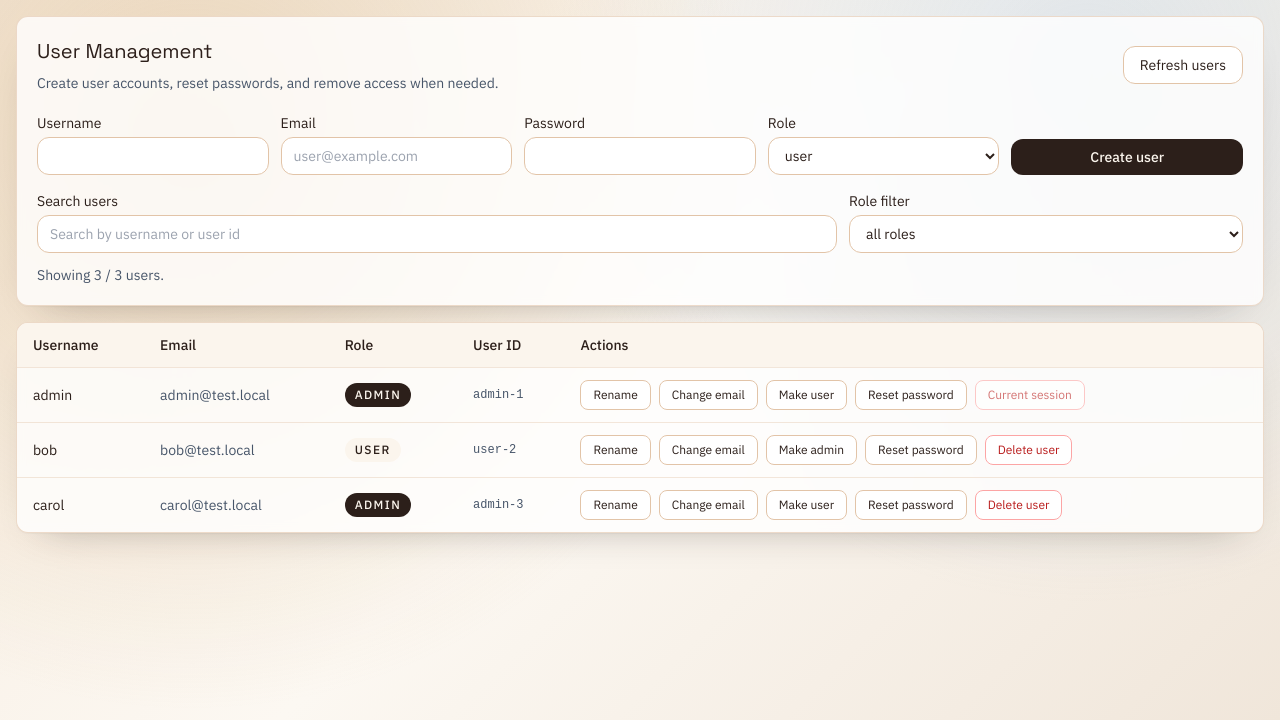
Test: AdminUsersView › creates a new user via the form
The width and height of the screenshot is (1280, 720).
In the field labelled "Username": (153, 156) [37, 137, 269, 175], type "newuser"
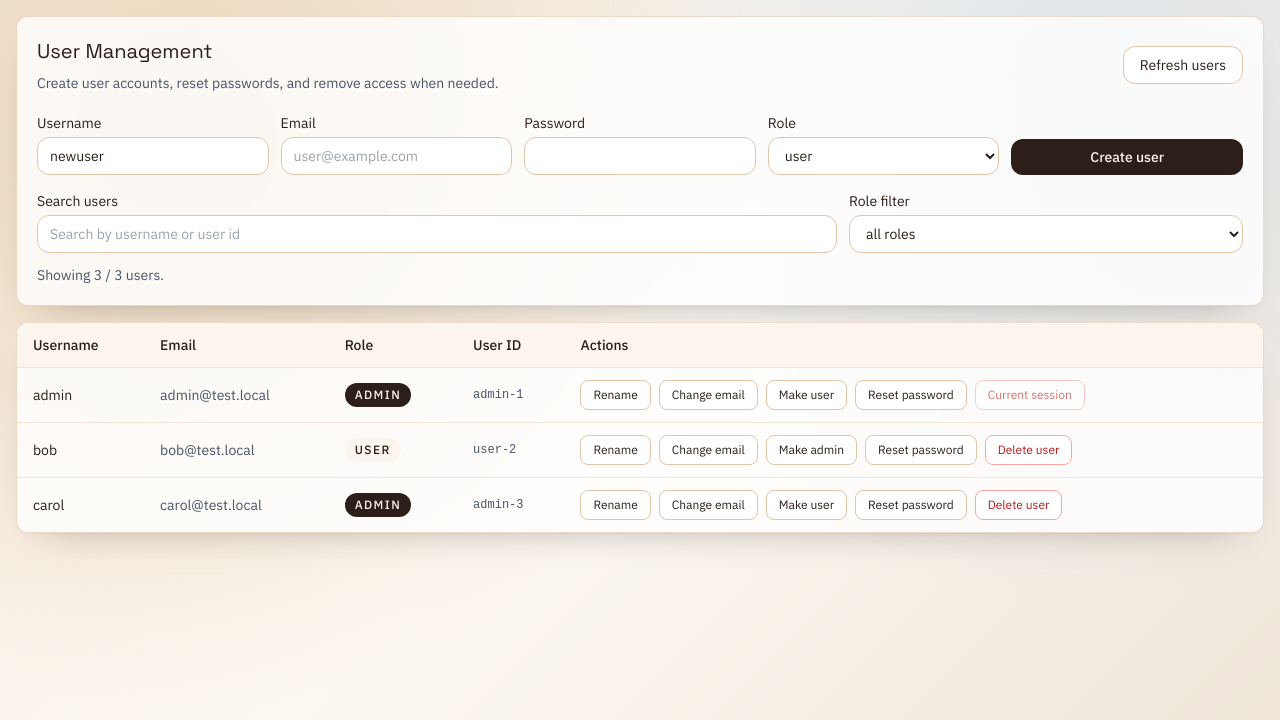
In the field labelled "Email": (396, 156) [281, 137, 512, 175], type "new@test.local"
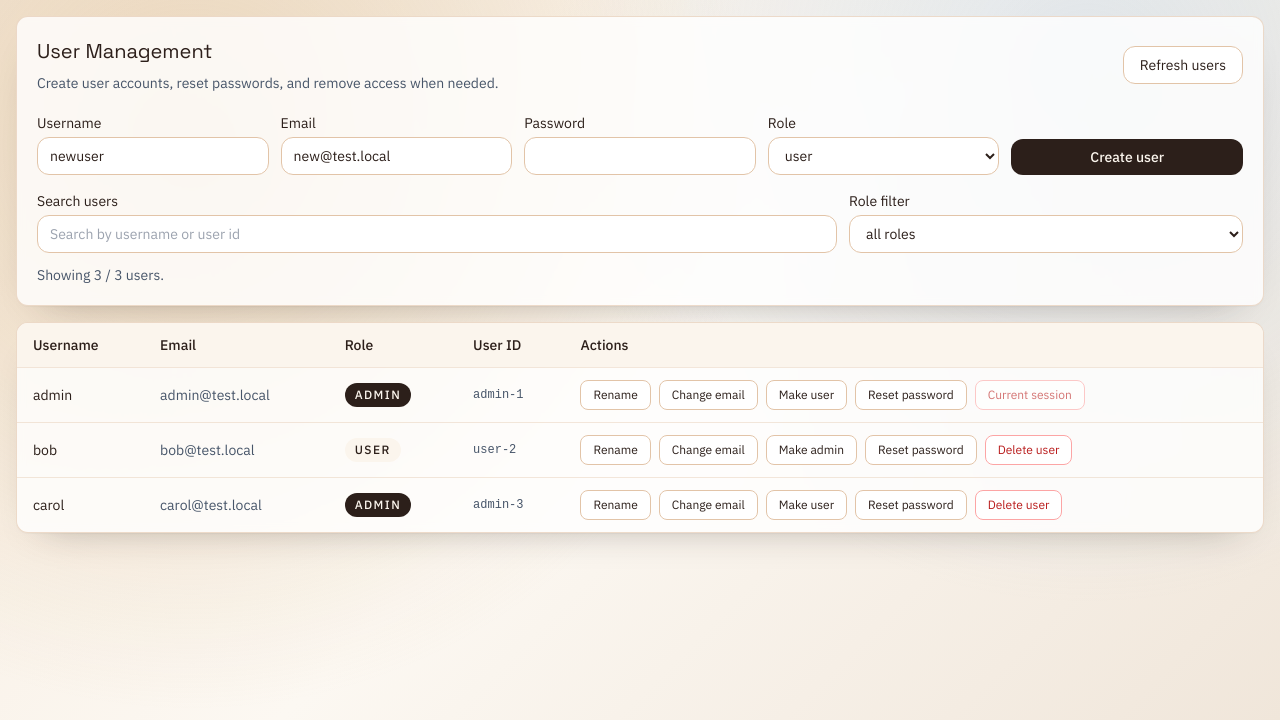
In the password field labelled "Password": (640, 156) [524, 137, 756, 175], type "password123"
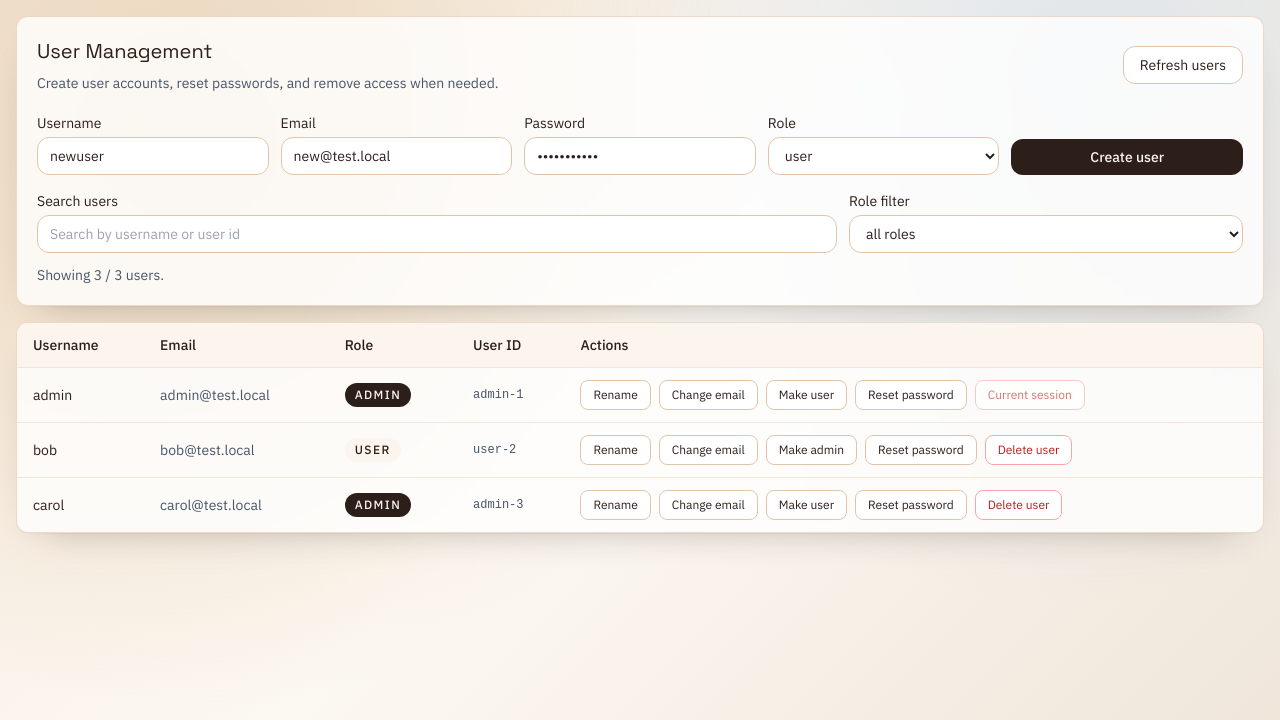
Submit the text "Create user", box [37, 113, 1243, 175]
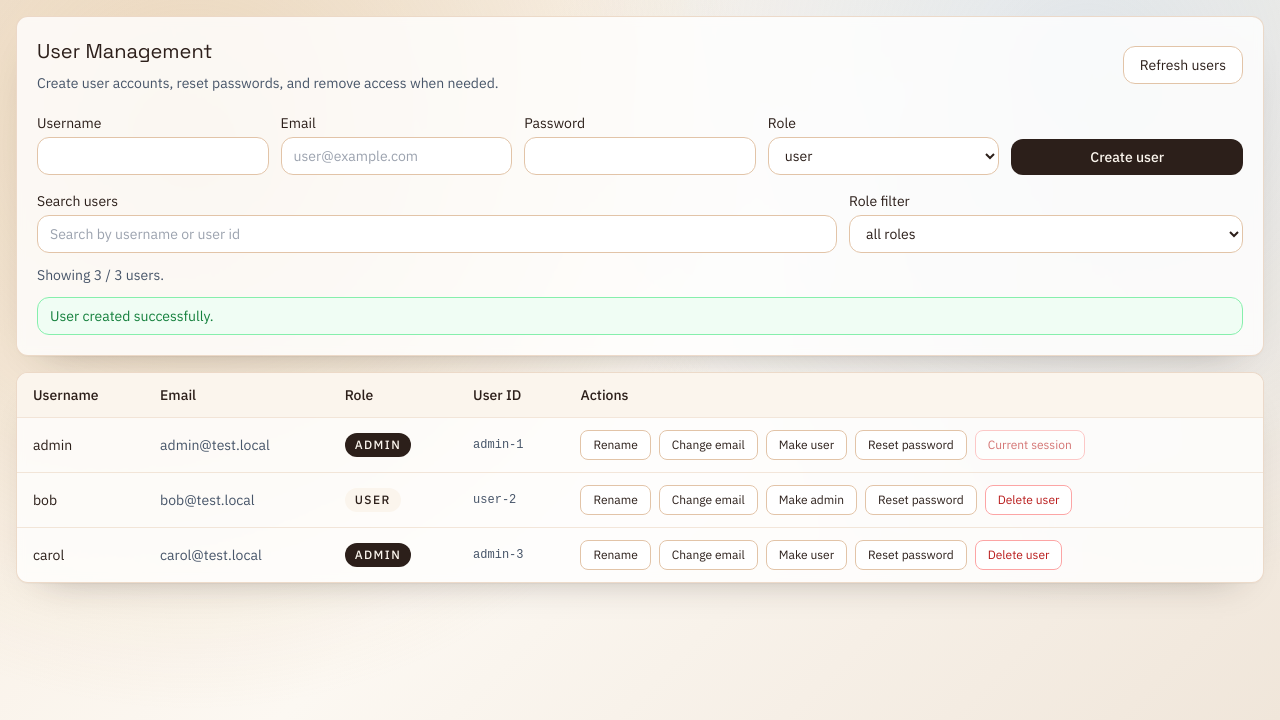
Expected: the text "User created successfully." is shown, [37, 297, 1243, 335]
